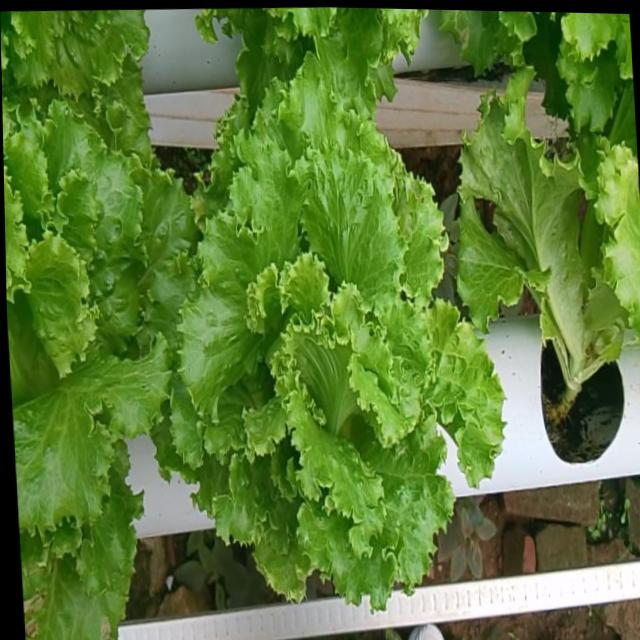Mature: (178, 88, 512, 626), (4, 111, 202, 555)
